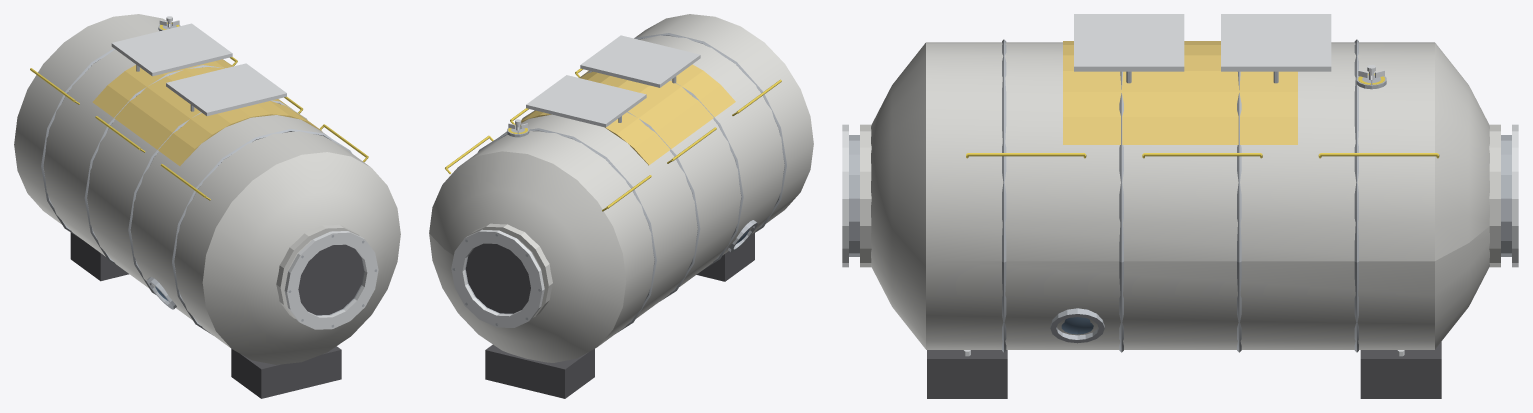
Rendered from orbital-station-and-docking-bays-habitation-module-foi-8bbc2e3c__24528.glb.
3 views of the same model, side by side, from view 1: azimuth 30°, elevation 25°; view 2: azimuth 150°, elevation 25°; view 3: azimuth 270°, elevation 25° (orthographic). The views are drawn at different scales.
Parts seen in each view (by area): view 1: habitation-module-foil; view 2: habitation-module-foil; view 3: habitation-module-foil.
Part boxes in pixels (x1,y1,x2,y2): habitation-module-foil: [14, 14, 400, 398]; habitation-module-foil: [429, 14, 813, 398]; habitation-module-foil: [842, 14, 1518, 398].
Bounding box in the file's own units: 4.28 × 4.99 × 9.2.
